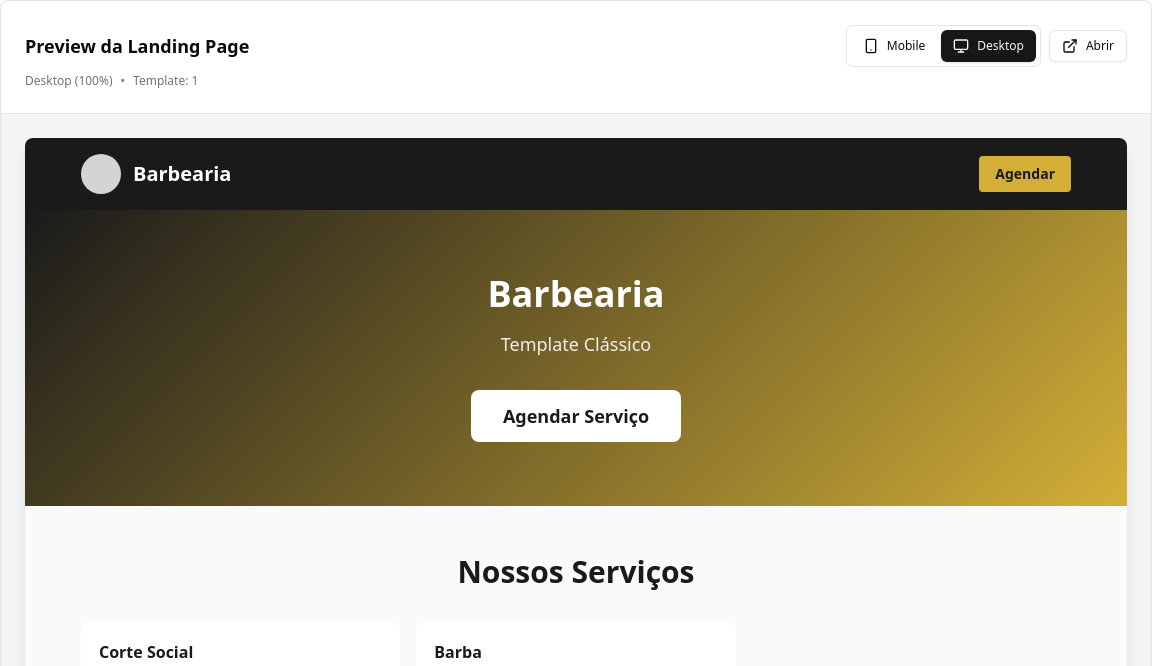
Scenario: PreviewPanel › Device Controls › should toggle to mobile view
The width and height of the screenshot is (1152, 666).
Click the button titled "Visualização Mobile". click: {"x": 894, "y": 46}
box: [851,30,937,62]
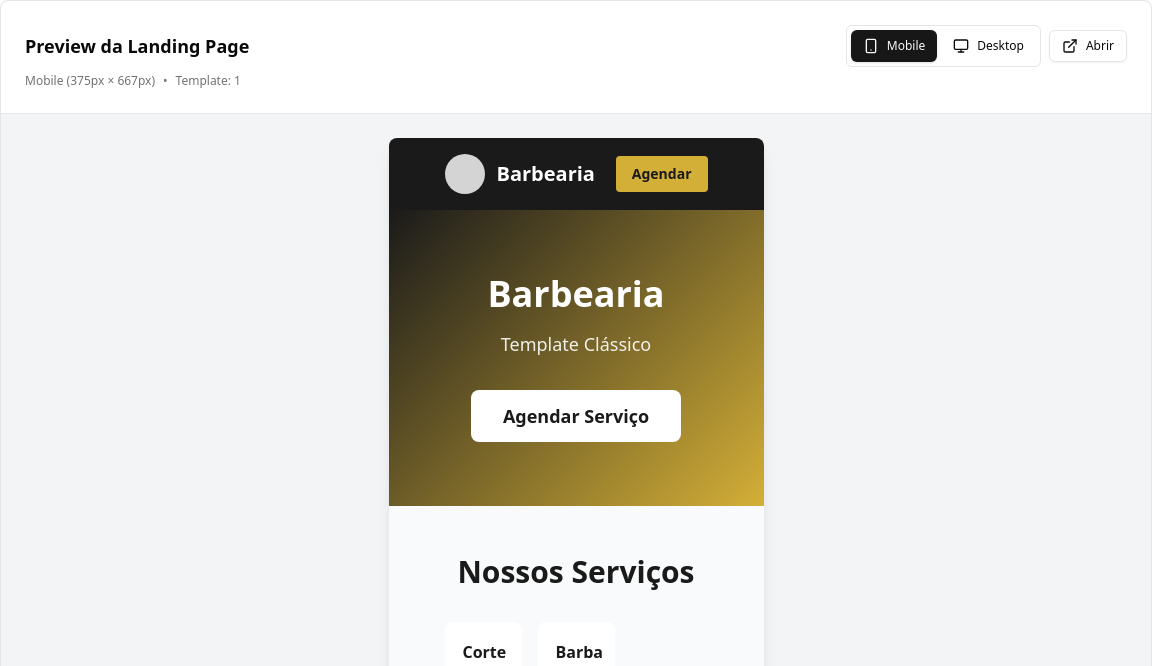
Check: the text "Mobile (375px × 667px)" is shown, box [25,73,155,89]
